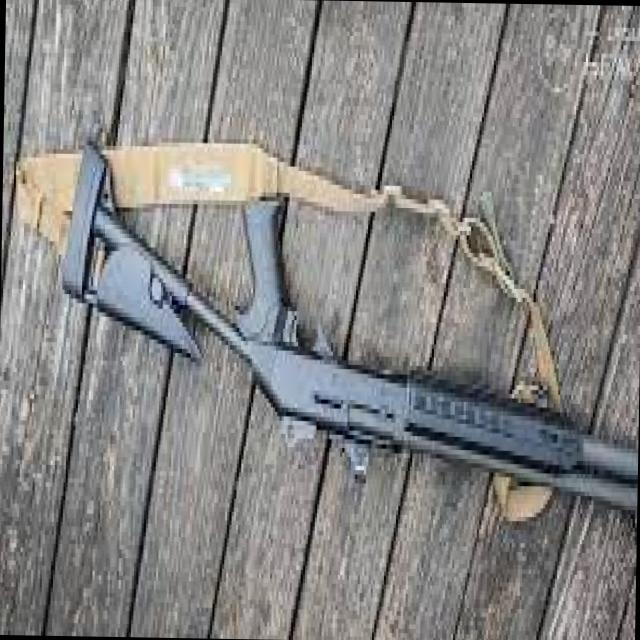Gun: (12, 205, 640, 514)
